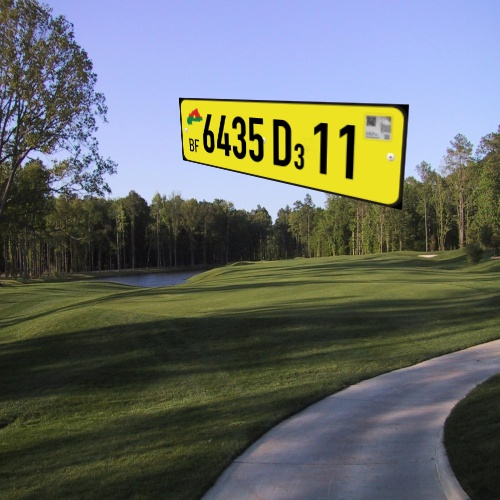plate: (164, 83, 417, 237)
